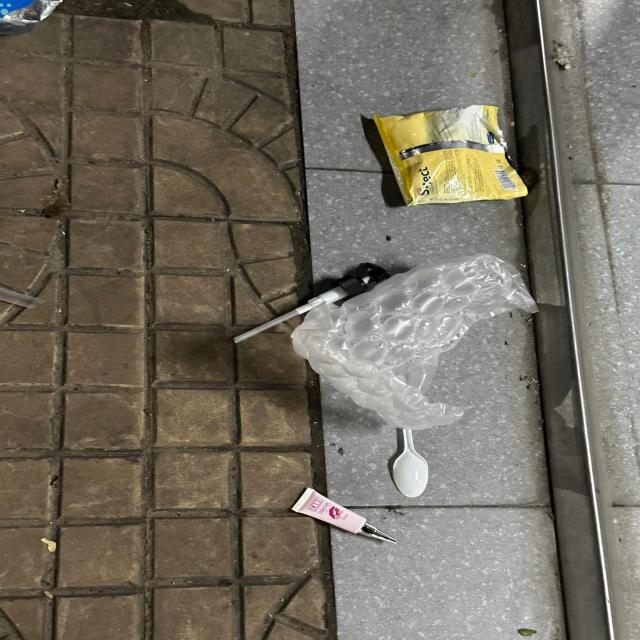bag: (290, 254, 538, 428)
plastic utensil: (391, 429, 429, 497)
snack package: (374, 106, 530, 208)
